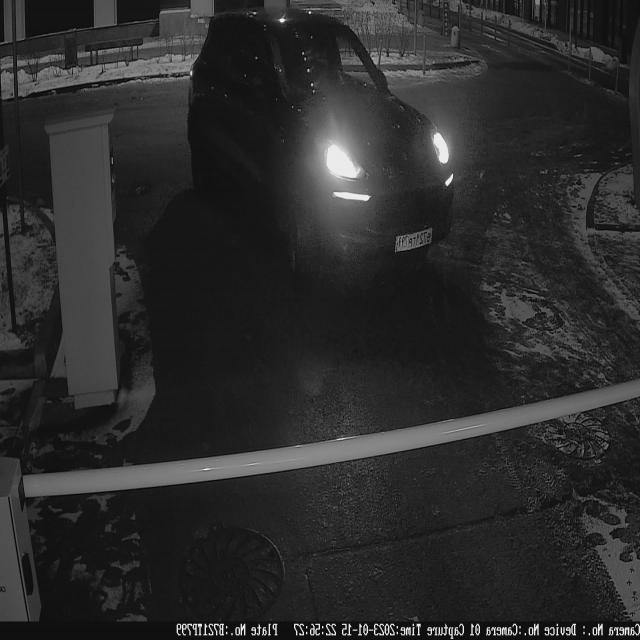car-plate-numbers: (393, 224, 437, 259)
